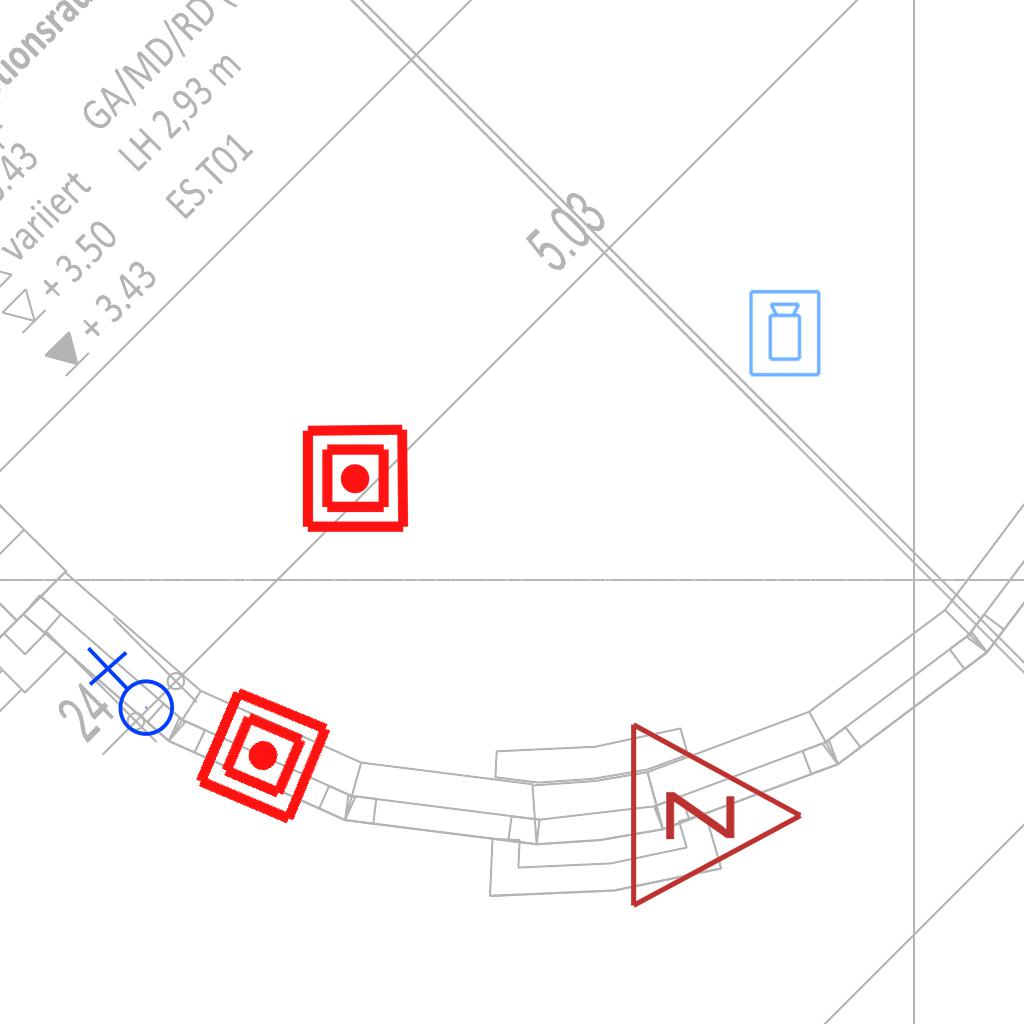Elektroanschluss_allgemein_230V_Geraeteanschlussdose_230V: (82, 646, 176, 745)
KFO_Kamera_mit_Festobjektiv: (747, 288, 824, 379)
NAM-Nichtautomatischer_Melder: (189, 681, 338, 830), (299, 422, 412, 535)
Zimmersignalleuchte: (616, 715, 816, 911)
